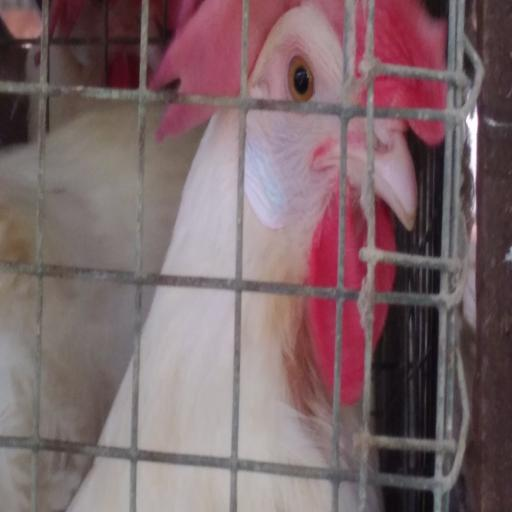healthy: (242, 0, 405, 292)
